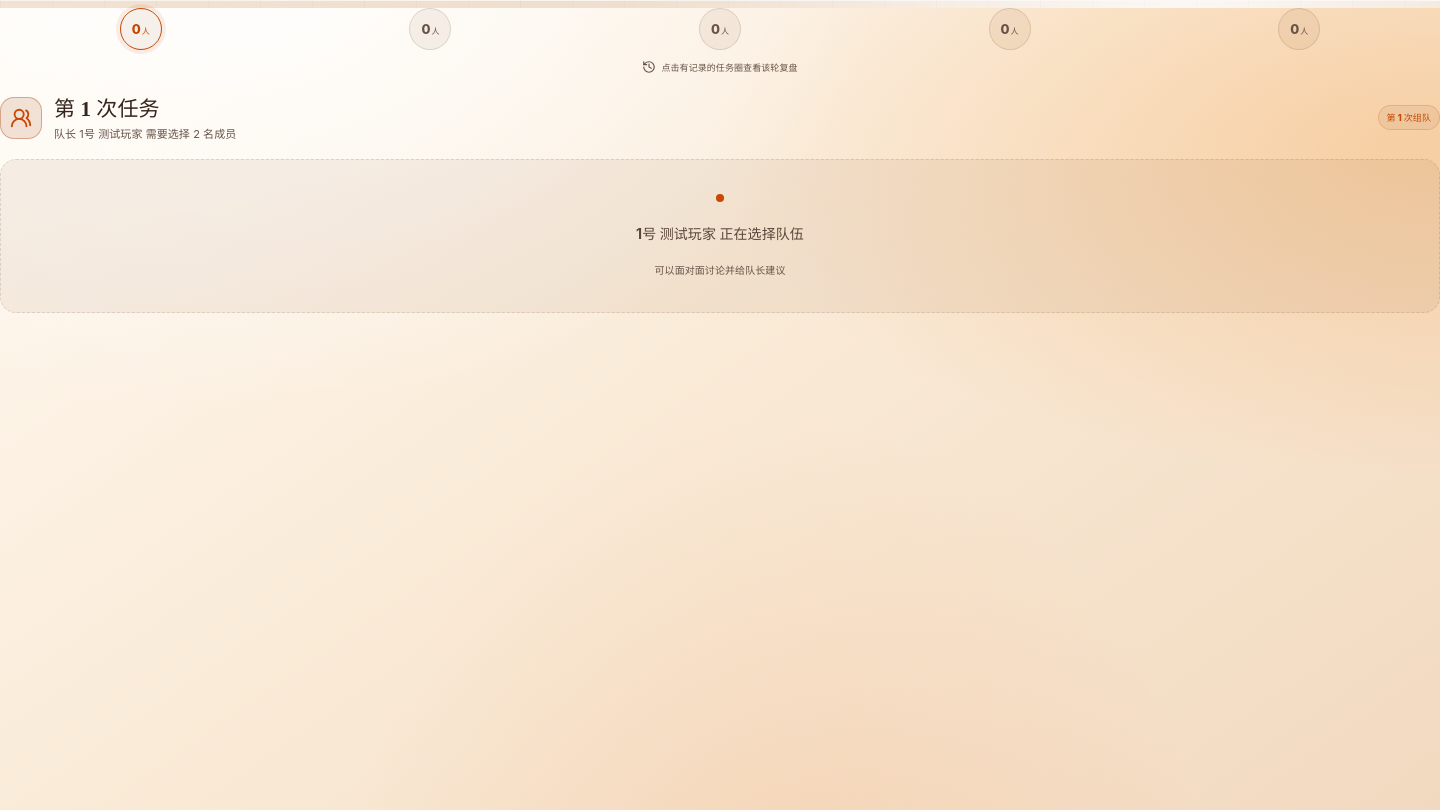
Scenario: AvalonTable role reveal › opens a replay with the recorded public team votes
Click the 1st button with class "mission-node" at (141, 29), box top-left (120, 8), bottom-right (162, 50)
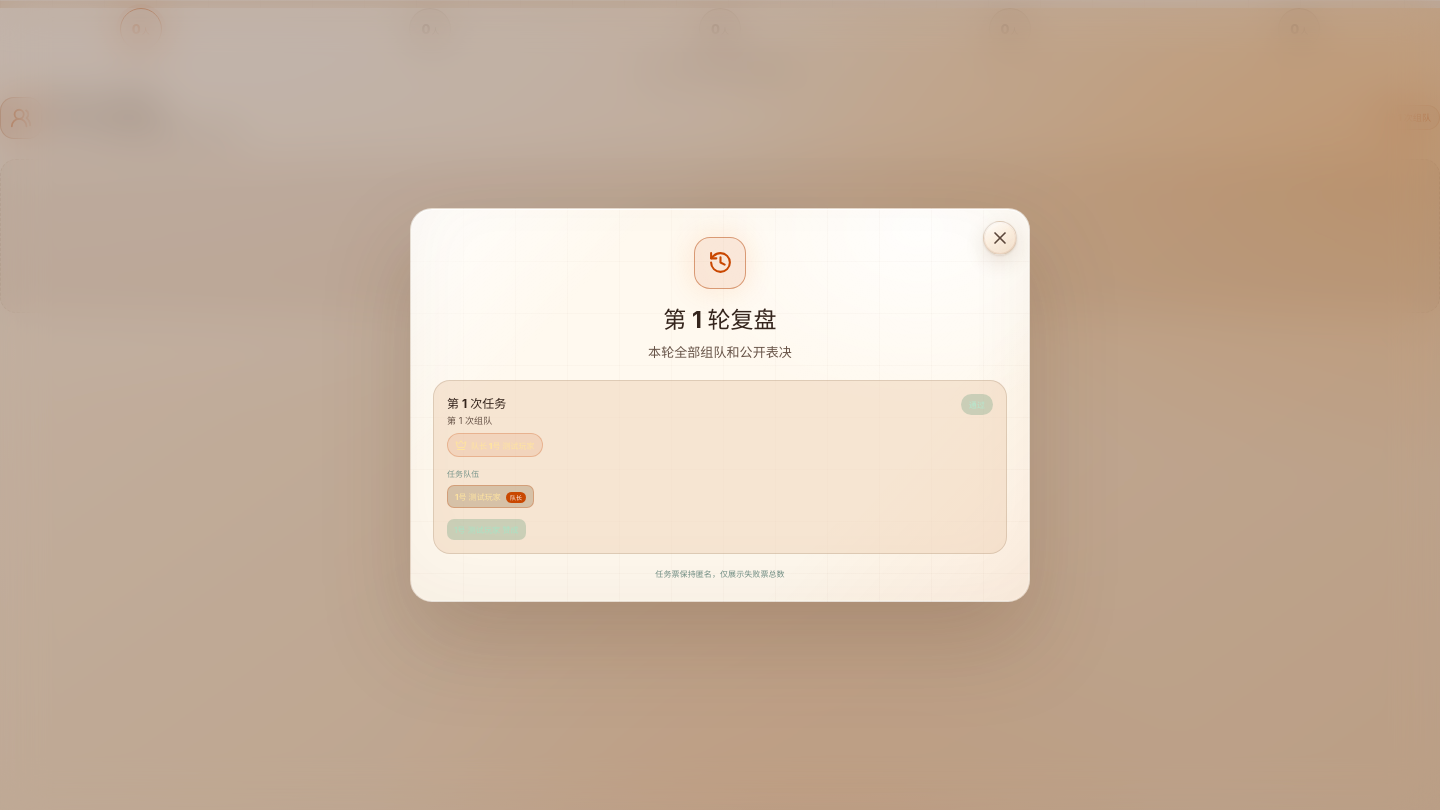
expect the dialog with class "replay-modal" shows "第 1 轮复盘": met, box top-left (663, 306), bottom-right (777, 334)
expect the dialog with class "replay-modal" shows "1号 测试玩家 赞成": met, box top-left (454, 525), bottom-right (519, 535)
expect the element with class "replay-leader" reads "队长 1号 测试玩家": met, box top-left (471, 441), bottom-right (535, 451)
